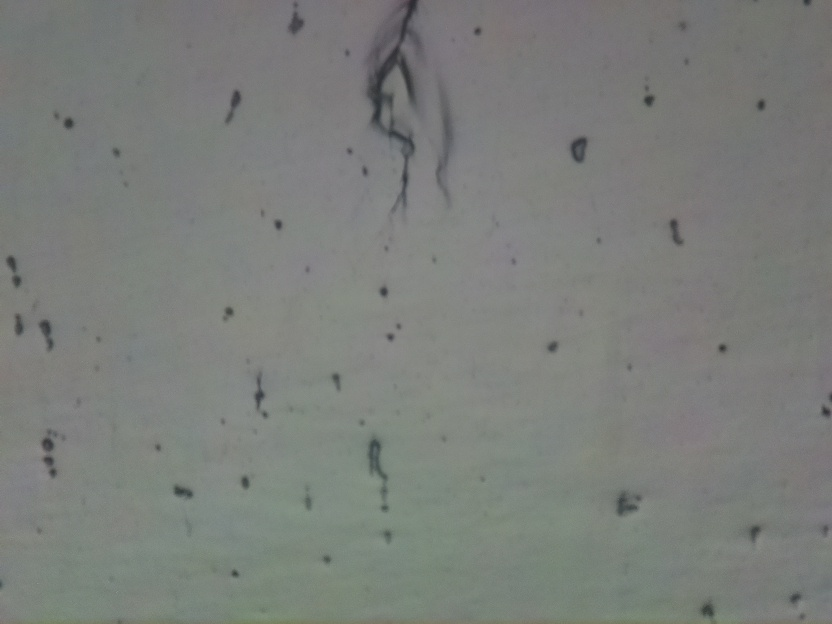crack: (369, 0, 428, 206)
